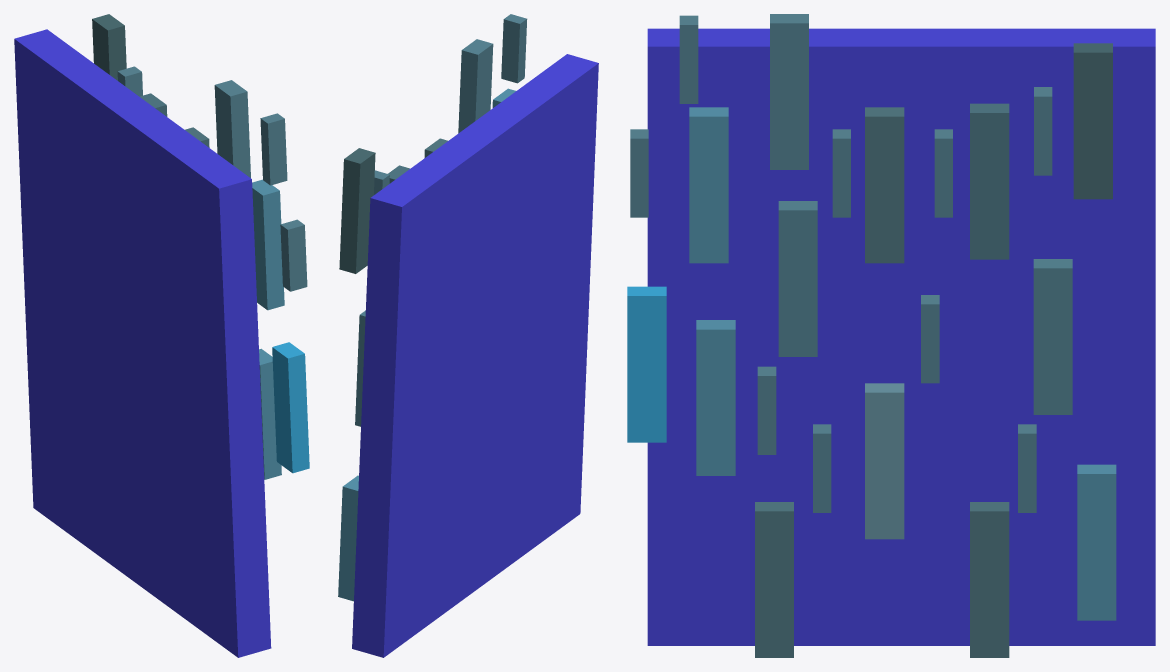
File: water.fbx
3 renders of one model, left to right at view 1: azimuth 30°, elevation 25°; view 2: azimuth 150°, elevation 25°; view 3: azimuth 270°, elevation 25°, orthographic. The views are drawn at different scales.
Visible parts, largest first — view 1: Cube, Cube.001, Cube.006, Cube.013, Cube.002, Cube.012, Cube.022, Cube.023, Cube.019; view 2: Cube, Cube.012, Cube.013, Cube.009, Cube.023, Cube.010; view 3: Cube, Cube.001, Cube.006, Cube.004, Cube.005, Cube.009, Cube.011, Cube.012, Cube.002, Cube.003, Cube.008, Cube.010 (+11 smaller).
Boxes of the visible parts, x1,y1,x2,y2 form: Cube: [14, 29, 271, 657]; Cube.001: [272, 342, 309, 473]; Cube.006: [252, 179, 284, 310]; Cube.013: [214, 80, 250, 177]; Cube.002: [259, 348, 281, 479]; Cube.012: [92, 14, 126, 80]; Cube.022: [280, 219, 307, 291]; Cube.023: [260, 113, 287, 185]; Cube.019: [117, 66, 142, 96]; Cube: [352, 54, 598, 657]; Cube.012: [339, 148, 375, 273]; Cube.013: [458, 39, 493, 133]; Cube.009: [338, 475, 358, 601]; Cube.023: [501, 14, 527, 83]; Cube.010: [355, 310, 365, 426]; Cube: [647, 28, 1155, 645]; Cube.001: [627, 286, 666, 442]; Cube.006: [689, 107, 728, 263]; Cube.004: [865, 383, 904, 539]; Cube.005: [865, 107, 904, 263]; Cube.009: [1077, 464, 1116, 620]; Cube.011: [970, 103, 1009, 259]; Cube.012: [1073, 43, 1112, 199]; Cube.002: [696, 320, 735, 475]; Cube.003: [778, 201, 817, 356]; Cube.008: [970, 502, 1009, 657]; Cube.010: [1033, 259, 1072, 414].
Bounding box in the file's own units: 420 × 2513 × 1881.
